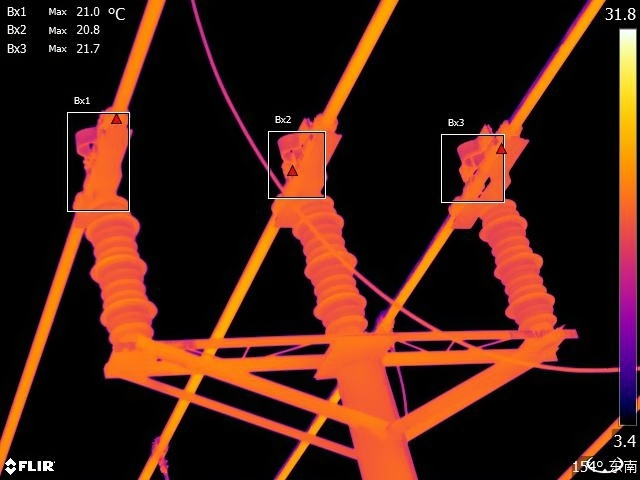clamp: (143, 433, 177, 473), (372, 300, 400, 338)
post insulator: (476, 191, 565, 329), (290, 185, 374, 328), (81, 190, 158, 345)
